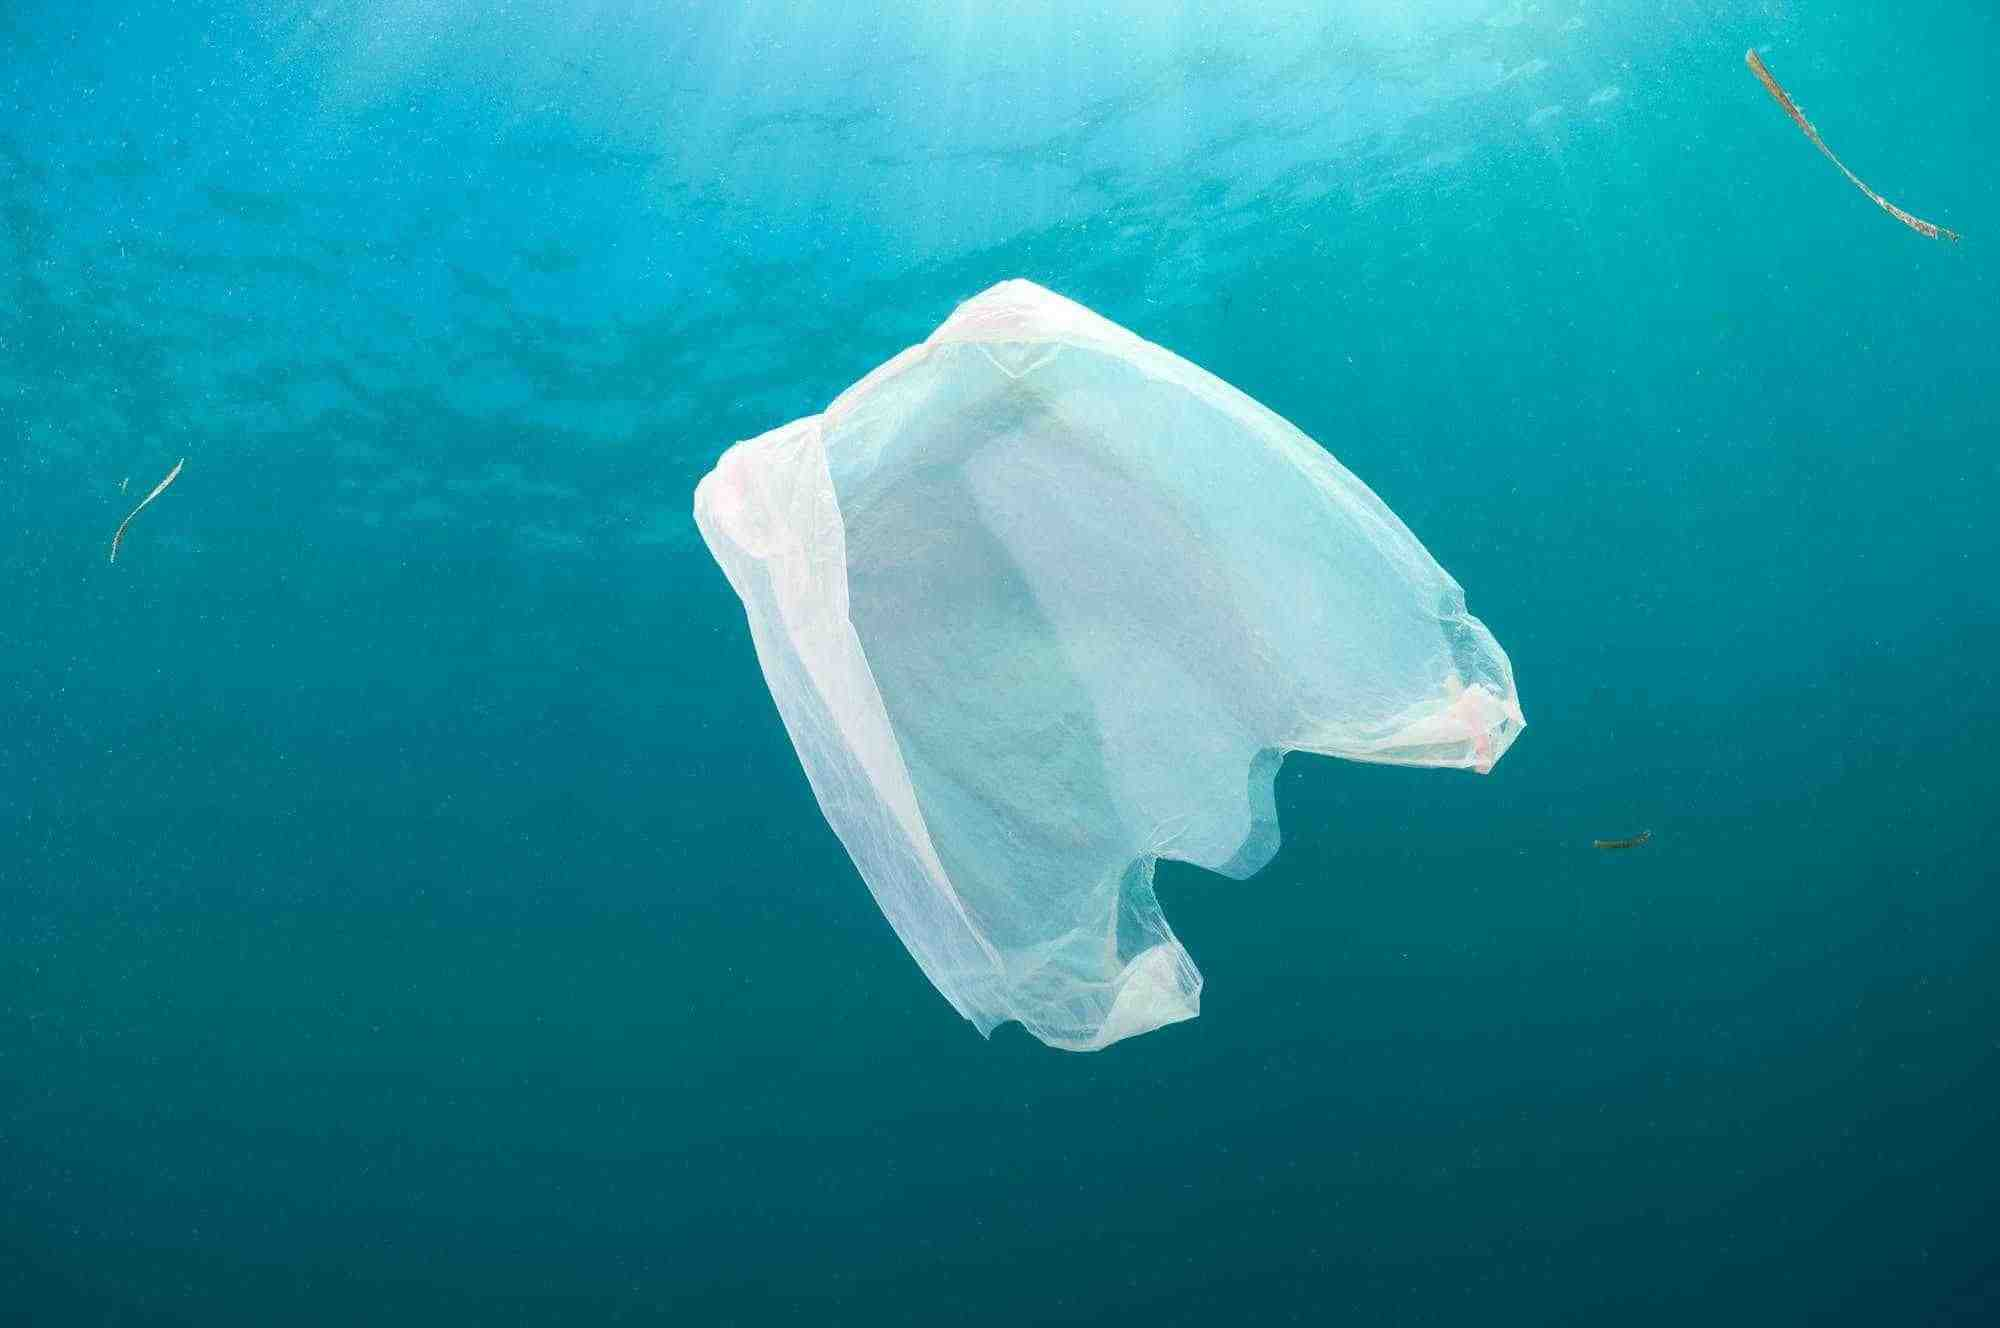plastic_bagwdw: (627, 102, 1679, 1147)
